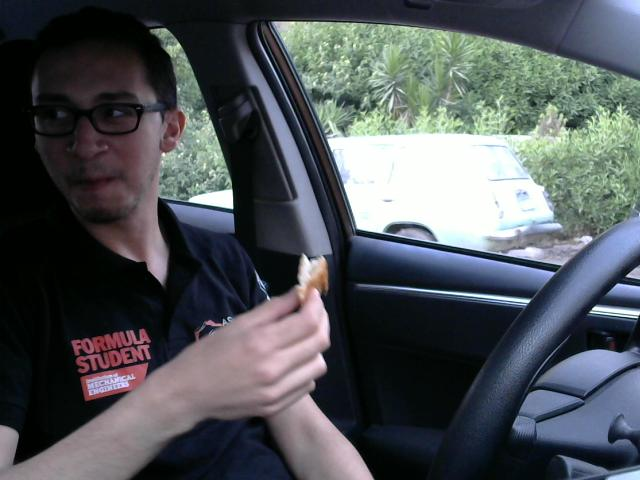Eating: (284, 243, 343, 309)
